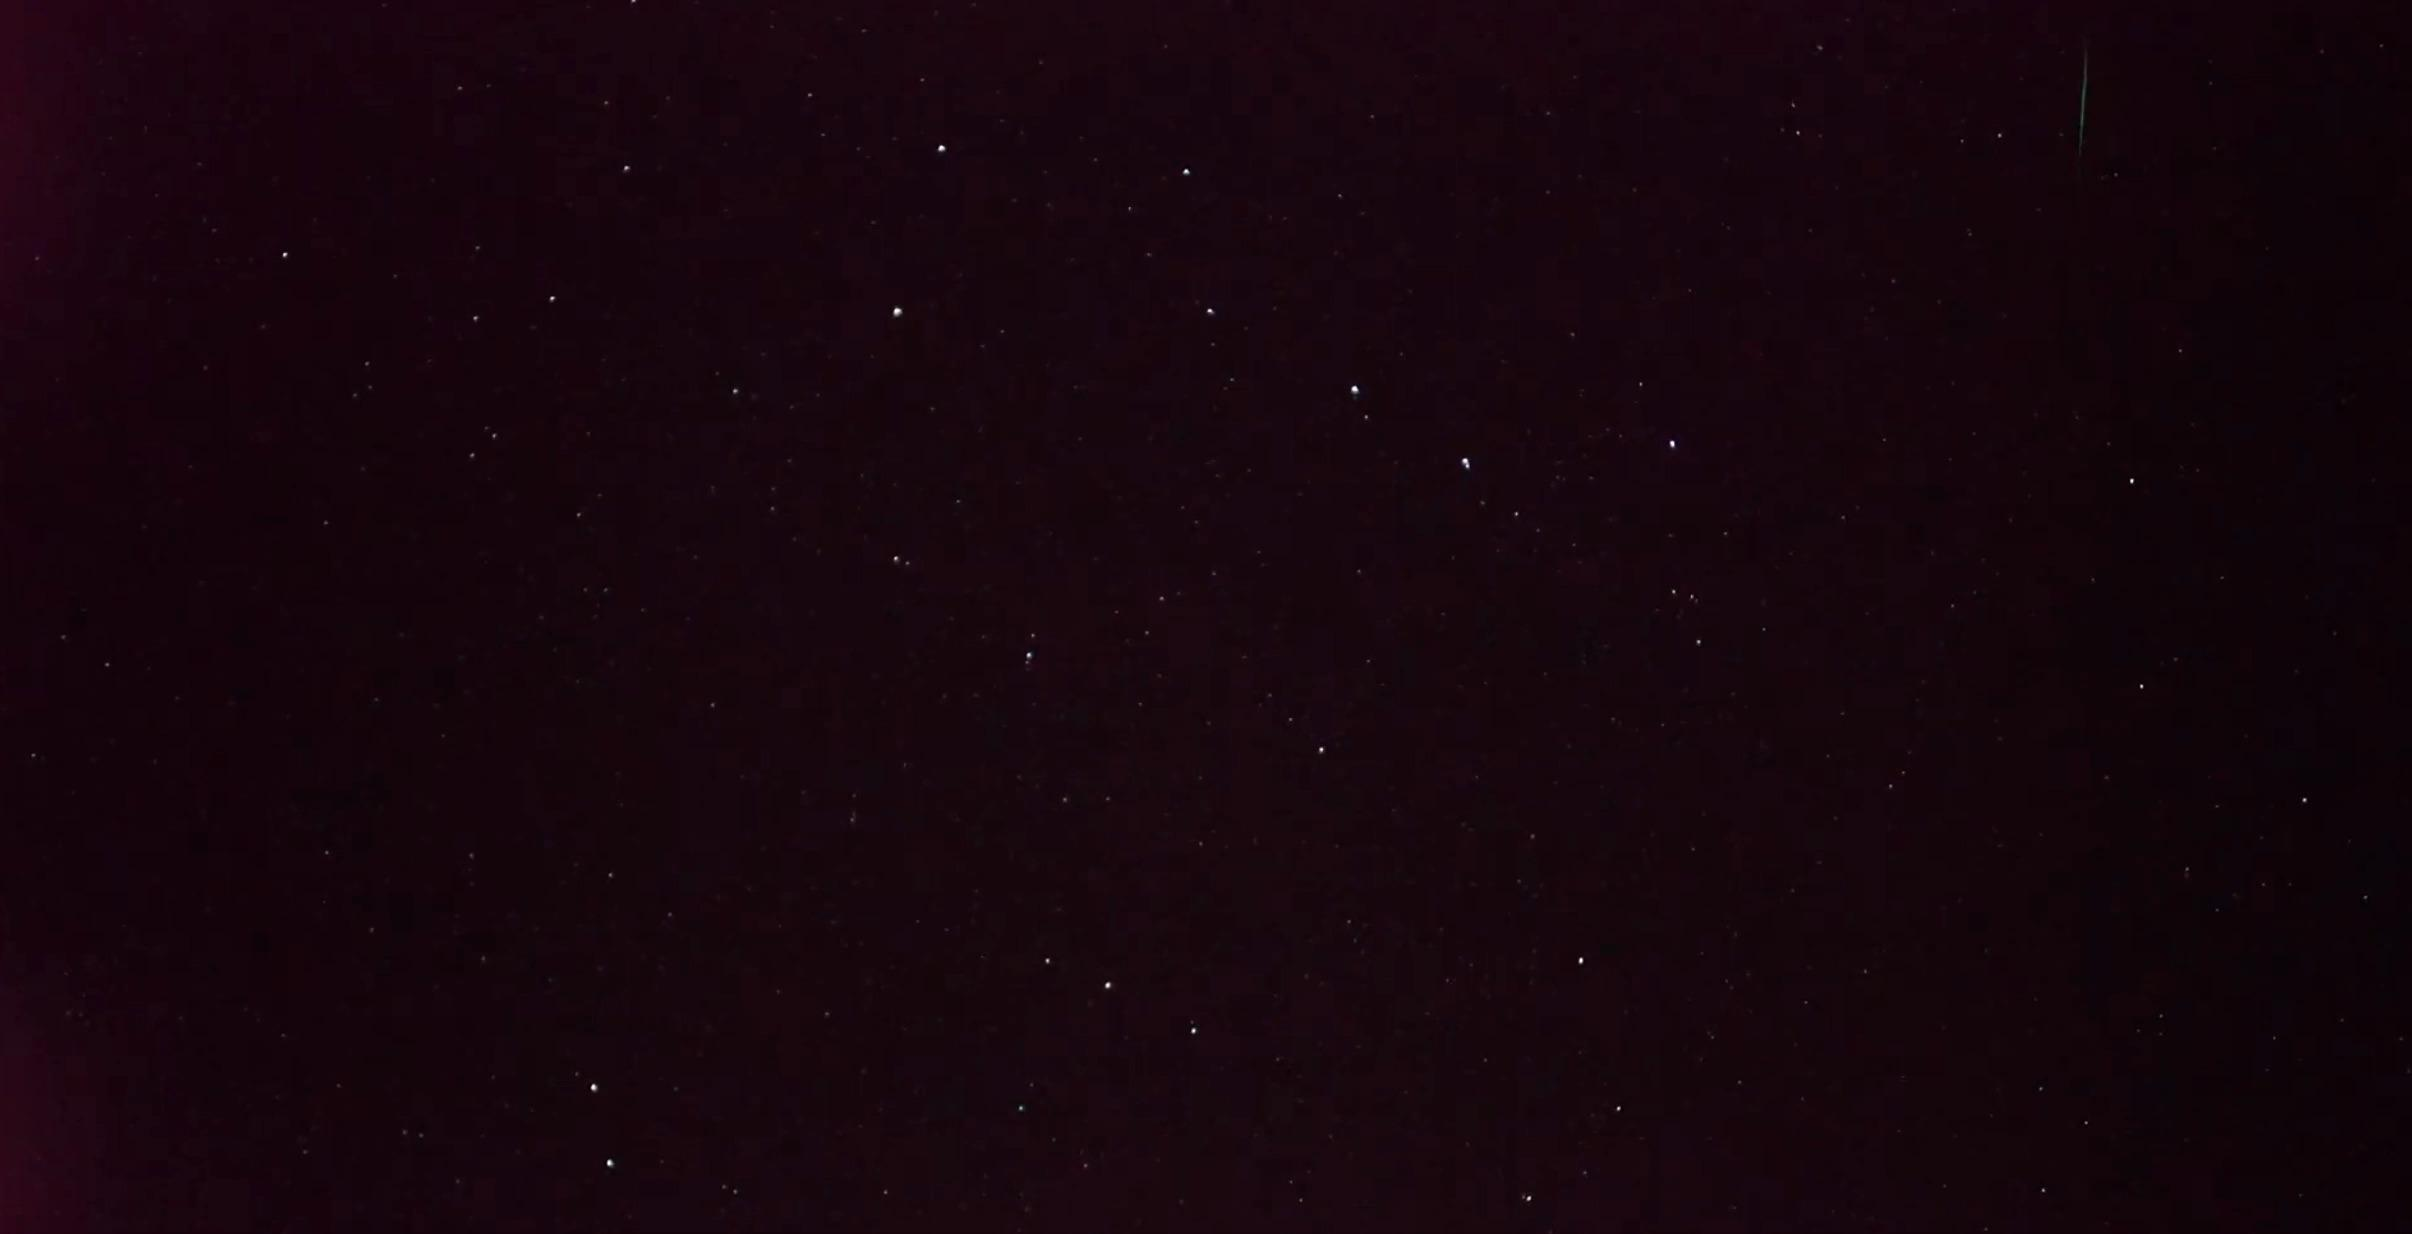meteorite: (2044, 27, 2122, 157)
